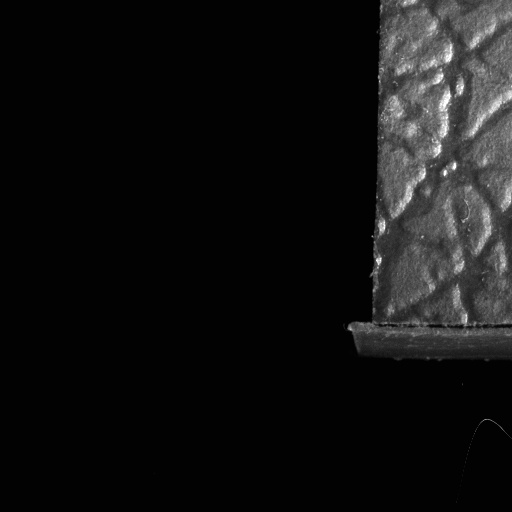jiaofeng: (370, 319, 511, 341)
